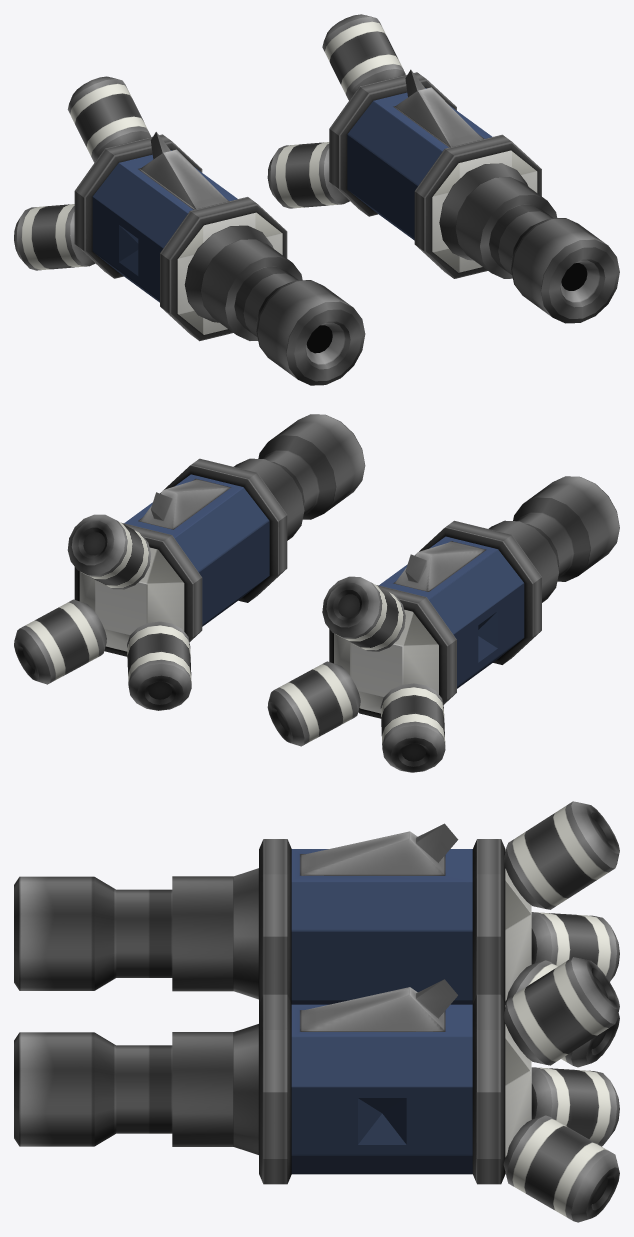
File: Turret_Guns.obj
3 renders of one model, top to bottom at view 1: azimuth 30°, elevation 25°; view 2: azimuth 150°, elevation 25°; view 3: azimuth 270°, elevation 25°, orthographic. The views are drawn at different scales.
Parts seen in each view (by area): view 1: group1 Turret gun_l, gun_r group1 Turret; view 2: group1 Turret gun_l, gun_r group1 Turret; view 3: group1 Turret gun_l, gun_r group1 Turret.
Part boxes in pixels (box(x1,y1,x2,y2)): group1 Turret gun_l: box(267, 14, 619, 323); gun_r group1 Turret: box(14, 76, 365, 385); group1 Turret gun_l: box(14, 414, 365, 710); gun_r group1 Turret: box(267, 476, 619, 772); group1 Turret gun_l: box(14, 957, 619, 1222); gun_r group1 Turret: box(14, 801, 619, 1067).
Bounding box in the file's own units: 3.3 × 1.31 × 3.23.
1 material, 1 textured.
